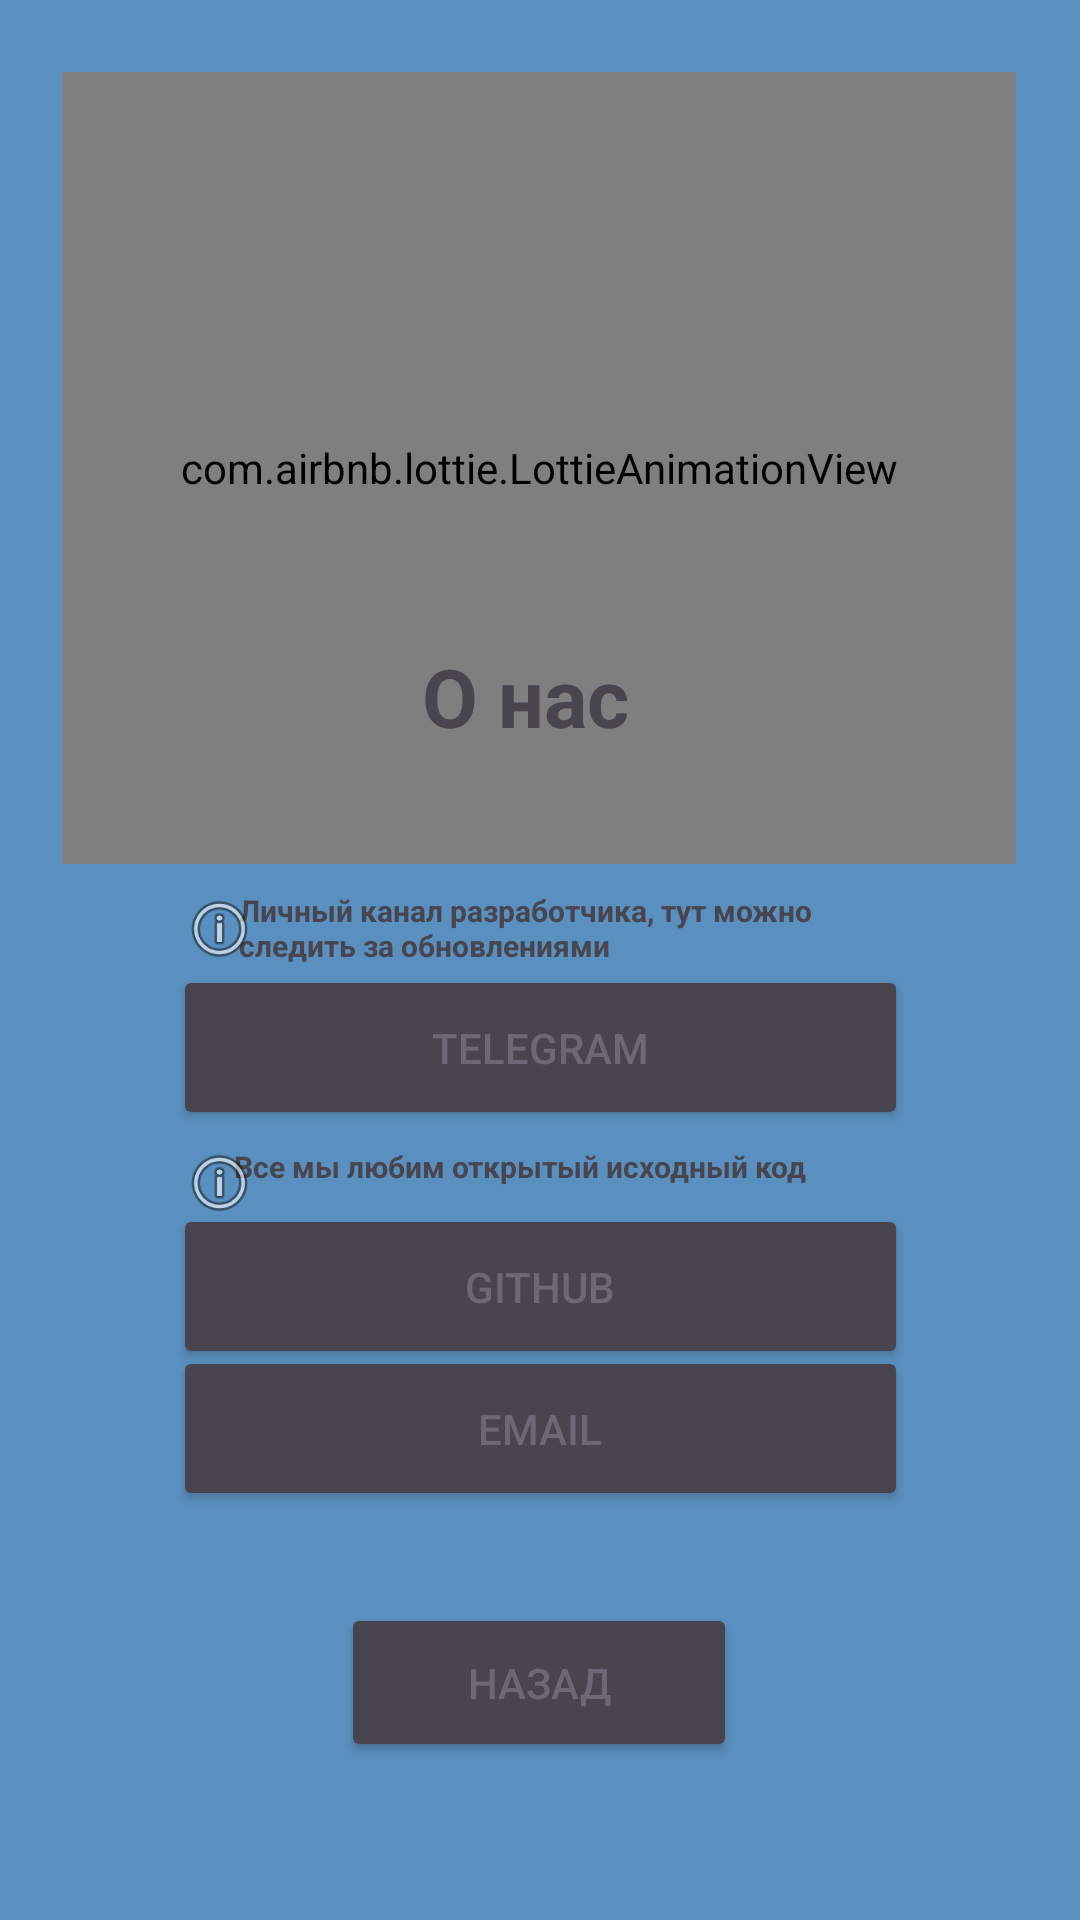

Where to tap for icons on this 1080×1920 app screen, as point (x, y):
info details: point (225, 929), point (221, 1183)
